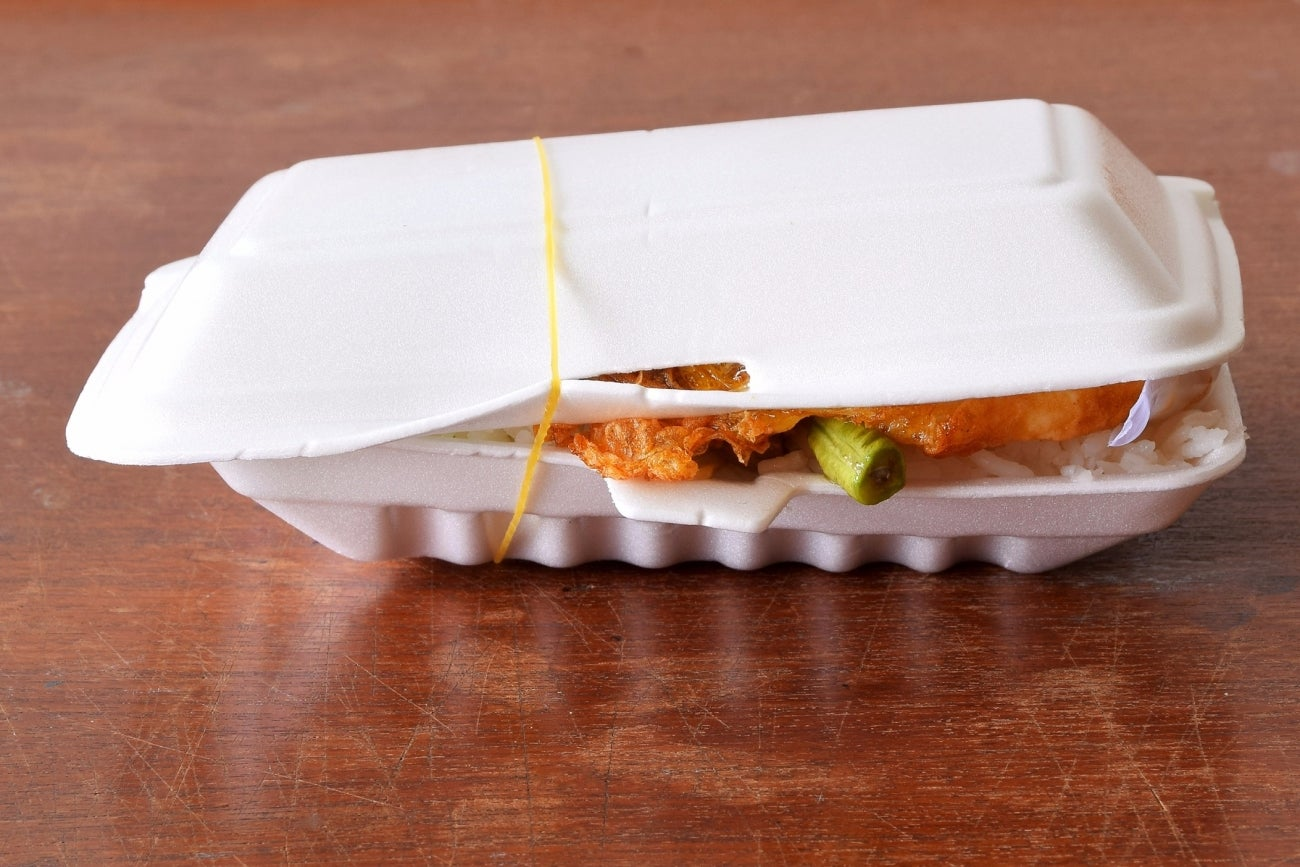styrofoam: (61, 95, 1252, 576)
